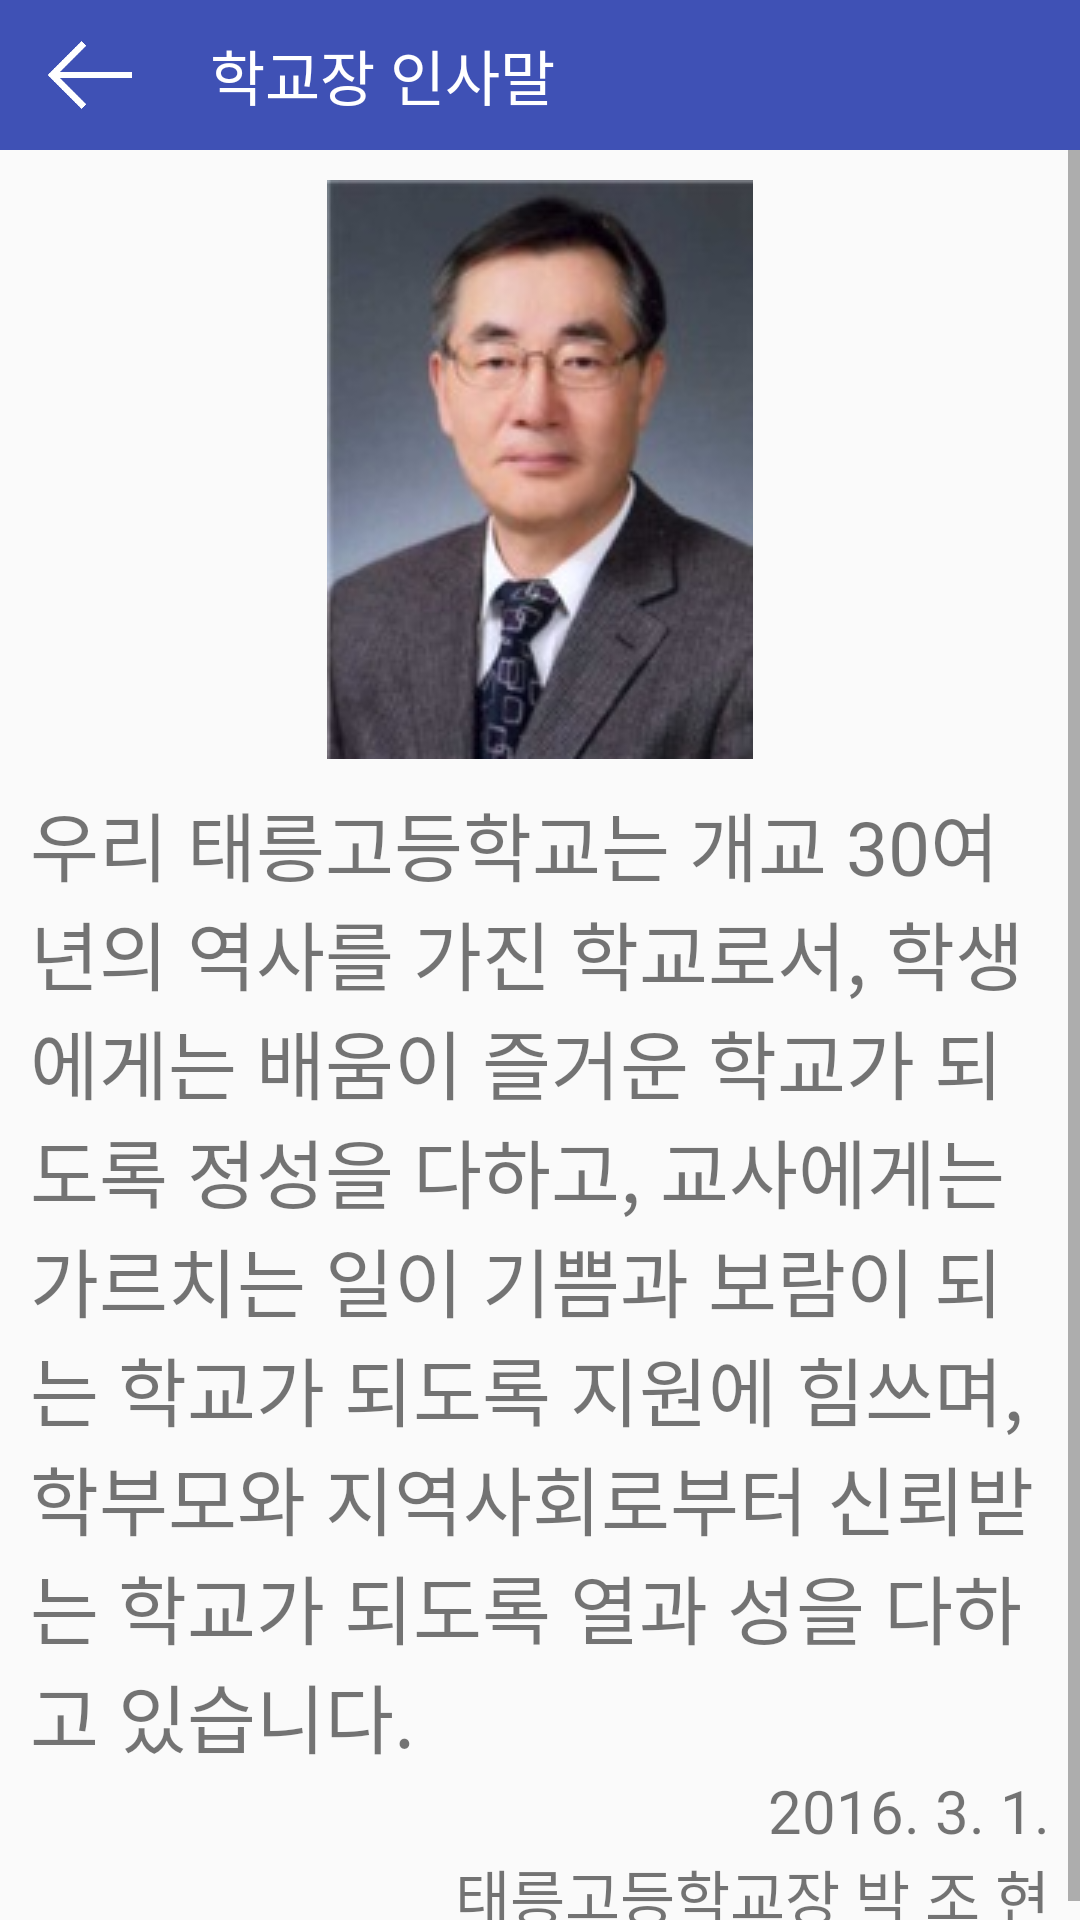

Icons on this 1080w x 1920h Android screen, each with its box as BBox(x1, y1, x2, y2):
back: BBox(48, 41, 132, 109)
